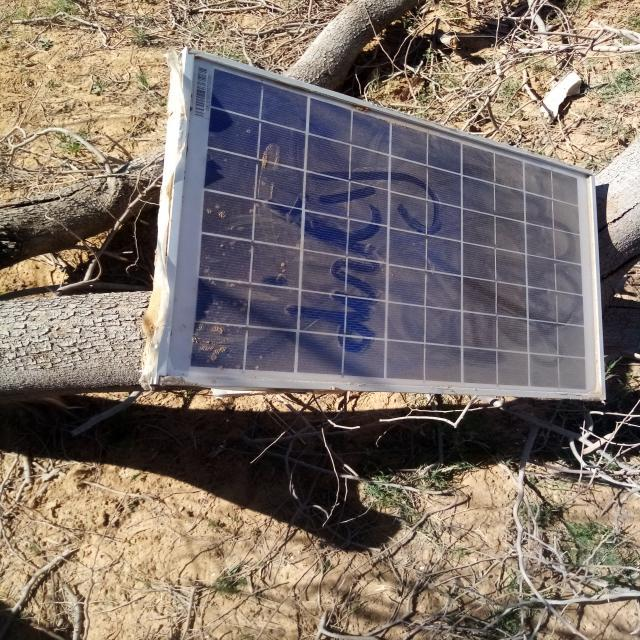faulty: (161, 51, 605, 397)
